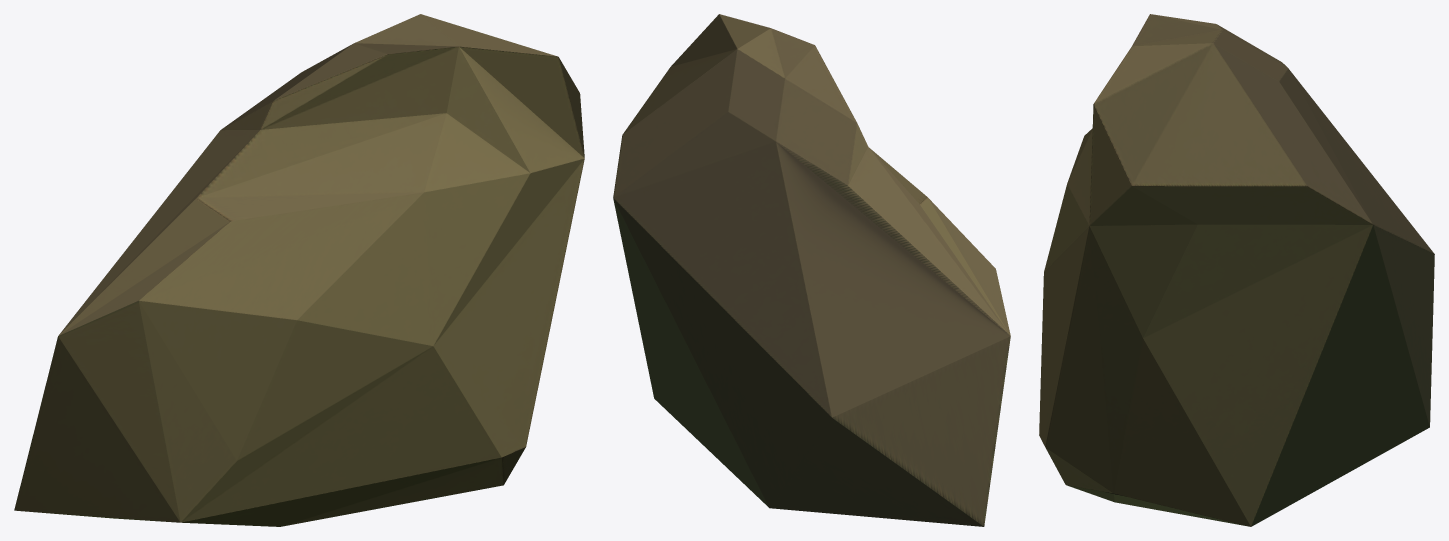
The model's file is rock_2.glb.
The picture shows the model from 3 angles, left to right: view 1: azimuth 30°, elevation 25°; view 2: azimuth 150°, elevation 25°; view 3: azimuth 270°, elevation 25°; orthographic projection. The views are drawn at different scales.
Visible parts, largest first — view 1: Rock2; view 2: Rock2; view 3: Rock2.
Part boxes in pixels (<box>): Rock2: <box>14,14,584,526</box>; Rock2: <box>613,14,1010,526</box>; Rock2: <box>1039,14,1434,526</box>.
Bounding box in the file's own units: 2.58 × 2.42 × 1.81.
1 material, 1 textured.
